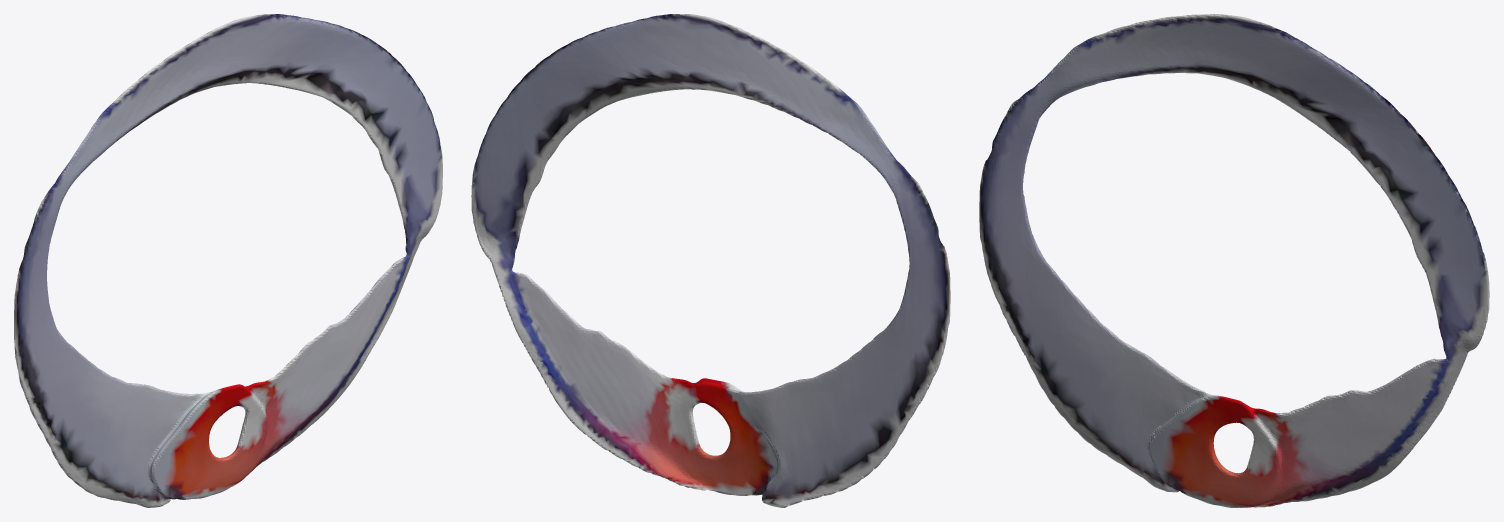
The model's file is ring_fire.glb.
The picture shows the model from 3 angles, left to right: view 1: azimuth 30°, elevation 25°; view 2: azimuth 150°, elevation 25°; view 3: azimuth 330°, elevation 25°; orthographic projection. The views are drawn at different scales.
Parts seen in each view (by area): view 1: geometry_0; view 2: geometry_0; view 3: geometry_0.
Boxes of the visible parts, x1=… form: geometry_0: x1=14, y1=14, x2=442, y2=507; geometry_0: x1=471, y1=14, x2=950, y2=507; geometry_0: x1=979, y1=14, x2=1489, y2=507.
Bounding box in the file's own units: 0.5938 × 0.5893 × 0.0718.
